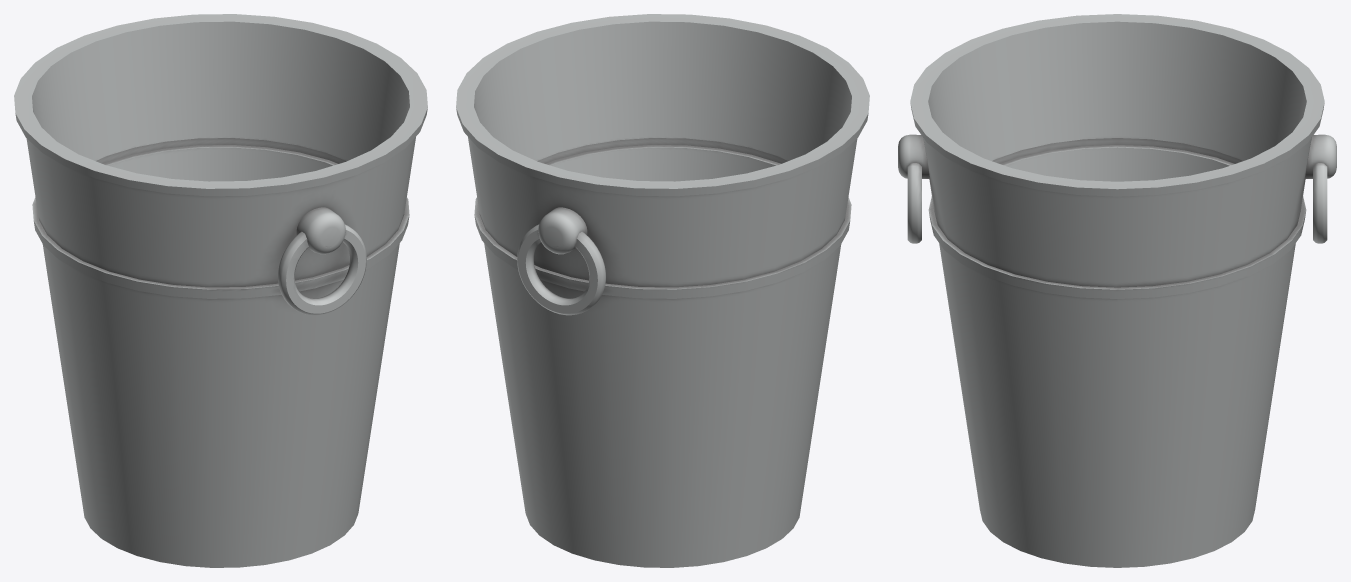
File: SM_BottleHolderMetal.fbx
3 views of the same model, side by side, from view 1: azimuth 30°, elevation 25°; view 2: azimuth 150°, elevation 25°; view 3: azimuth 270°, elevation 25° (orthographic).
Parts seen in each view (by area): view 1: SM_BottleHolderMetal_LOD0; view 2: SM_BottleHolderMetal_LOD0; view 3: SM_BottleHolderMetal_LOD0.
Part boxes in pixels (box(x1,y1,x2,y2)): SM_BottleHolderMetal_LOD0: box(14, 14, 427, 567); SM_BottleHolderMetal_LOD0: box(456, 14, 869, 567); SM_BottleHolderMetal_LOD0: box(898, 14, 1336, 567).
Size of the model in its own units: 26.9 by 28.47 by 29.23.
Materials: 1 (1 with a texture image).
